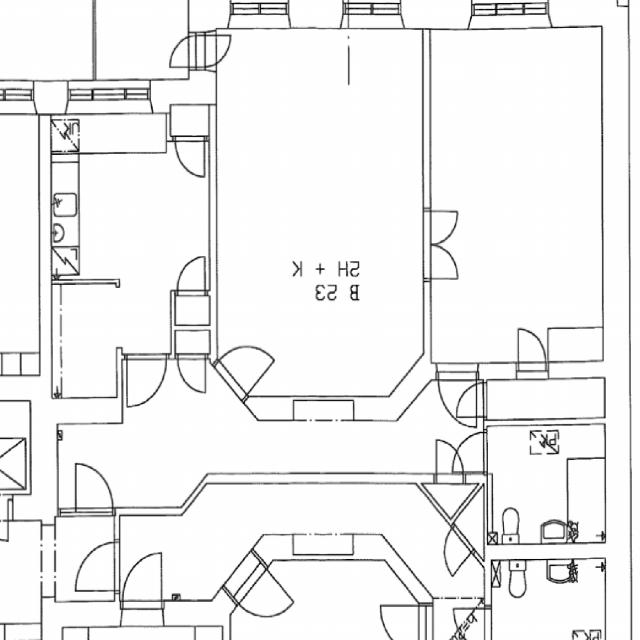door: (188, 364, 247, 436), (152, 31, 216, 76), (189, 31, 253, 76), (436, 359, 477, 428), (514, 318, 547, 378), (74, 466, 110, 520), (453, 348, 481, 417), (449, 431, 488, 471), (419, 206, 459, 244), (419, 245, 459, 282), (432, 437, 462, 481), (177, 252, 206, 295), (178, 358, 205, 398)
